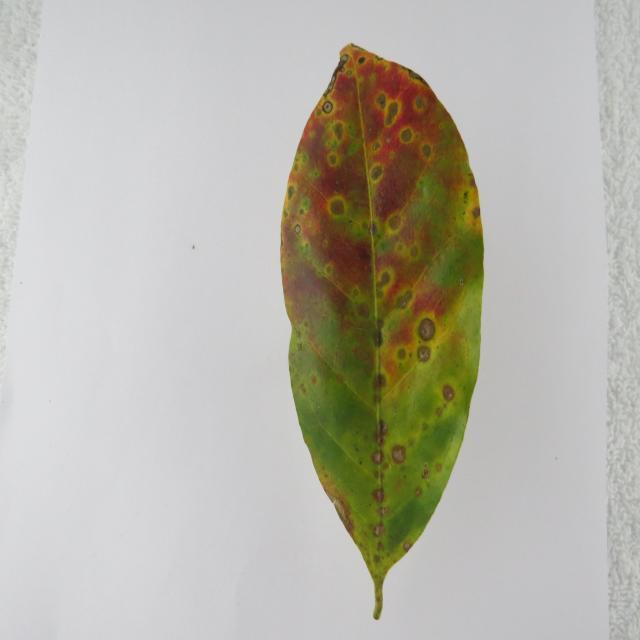DeficienciaNutricional-Fosforo: (281, 45, 484, 618)
